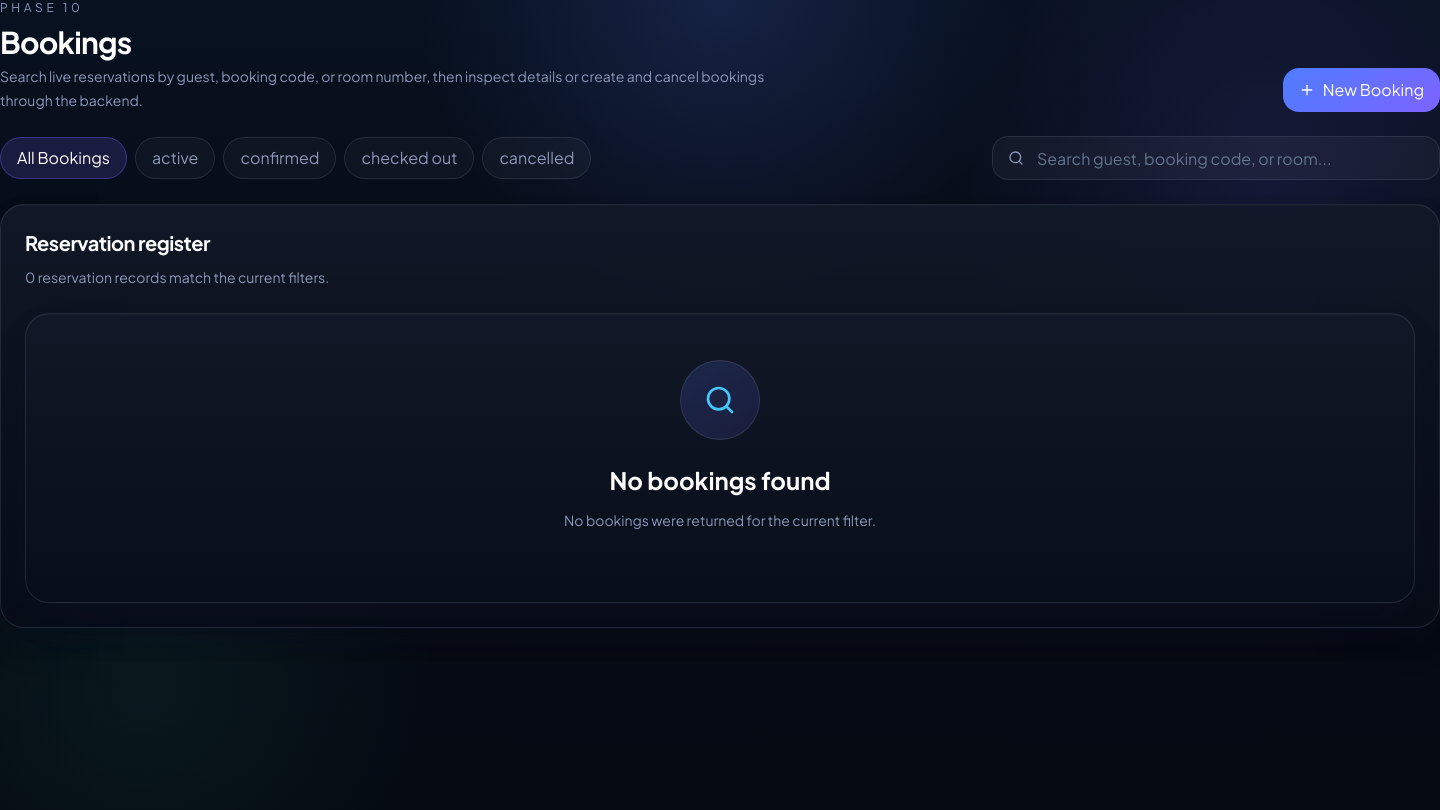
Test: frontend components › booking form validates missing room
Click the button "New Booking" at (1361, 90), box left=1283, top=68, right=1439, bottom=112
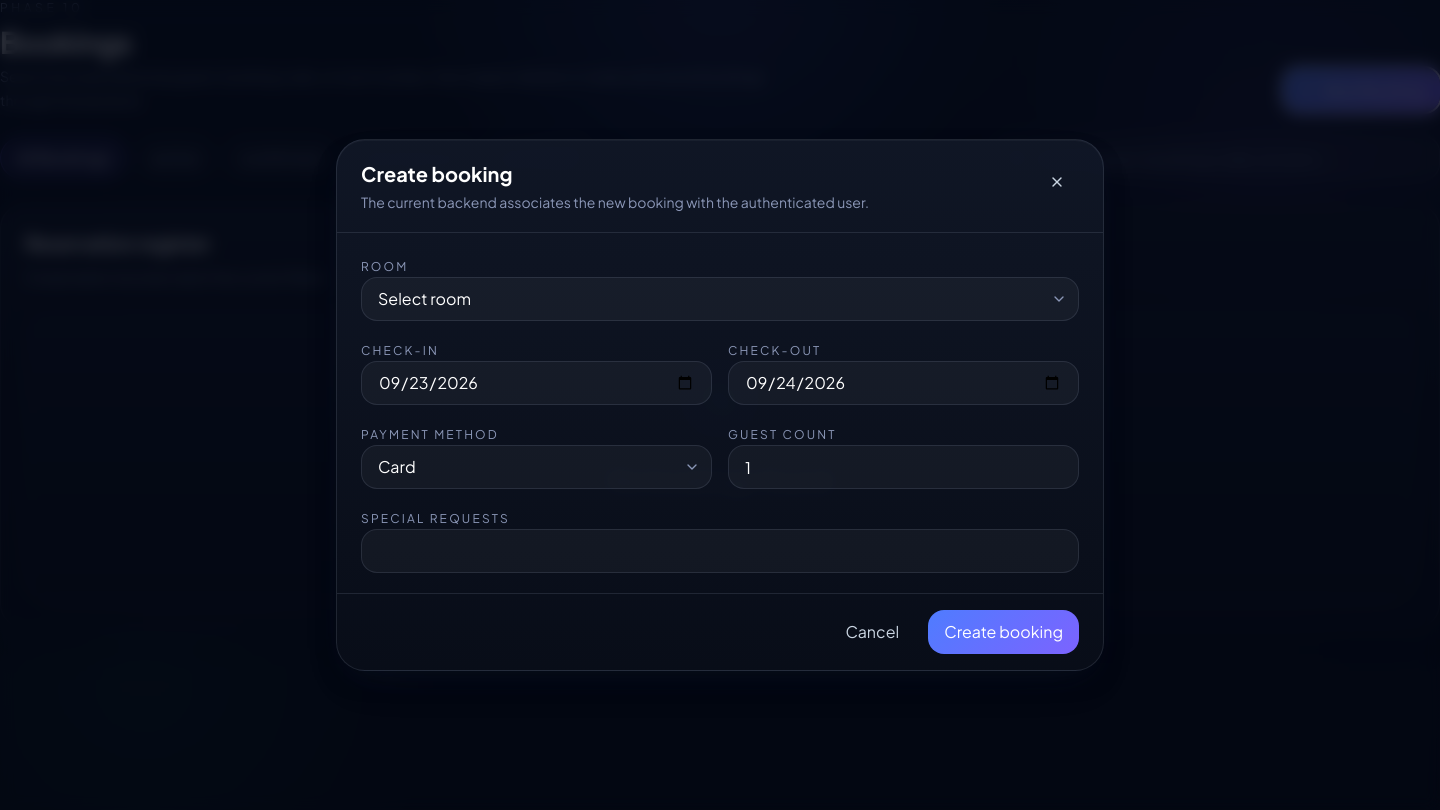
Click the button "Create booking" at (1004, 632), box left=928, top=610, right=1079, bottom=654
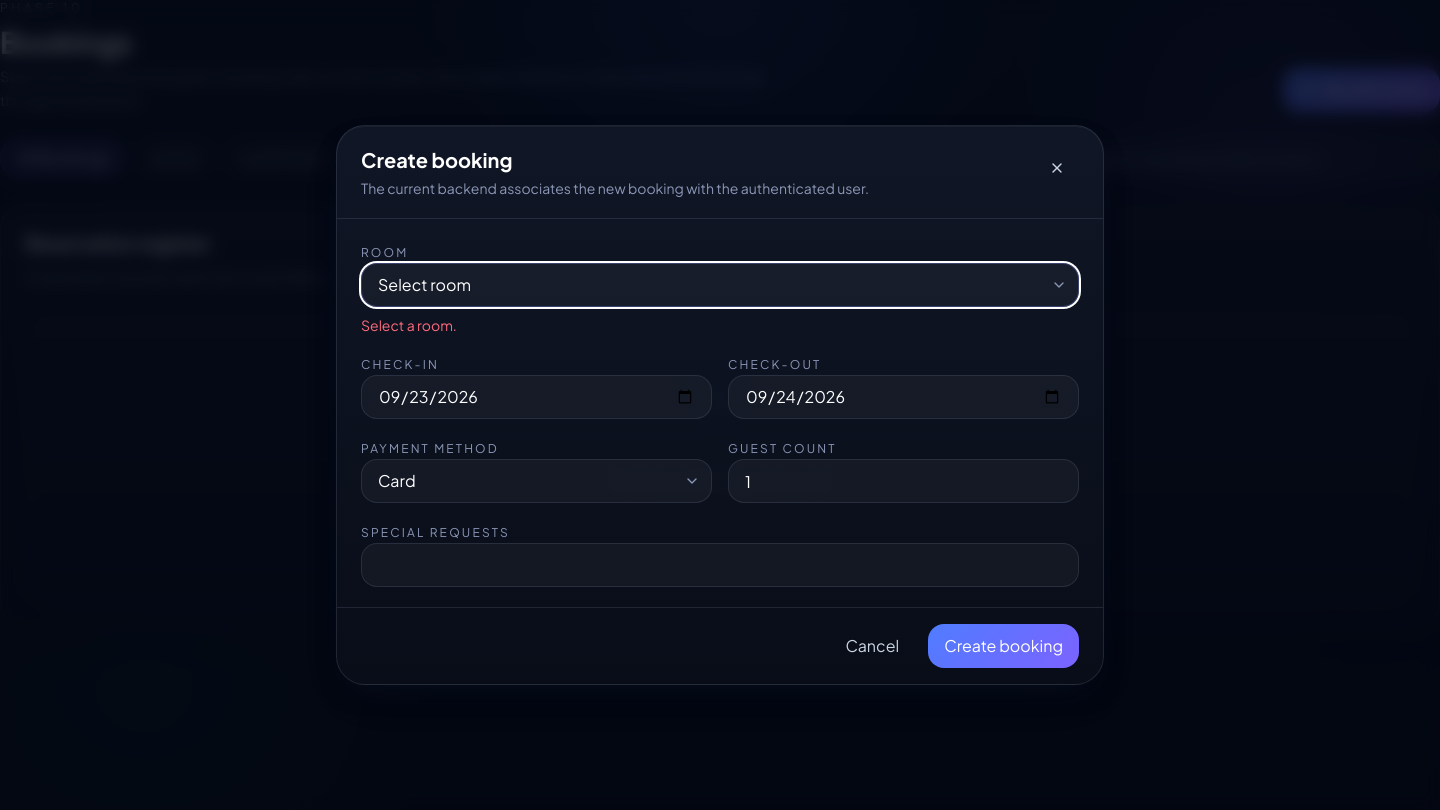
expect the text "Select a room." is shown: met, box left=361, top=316, right=457, bottom=334
